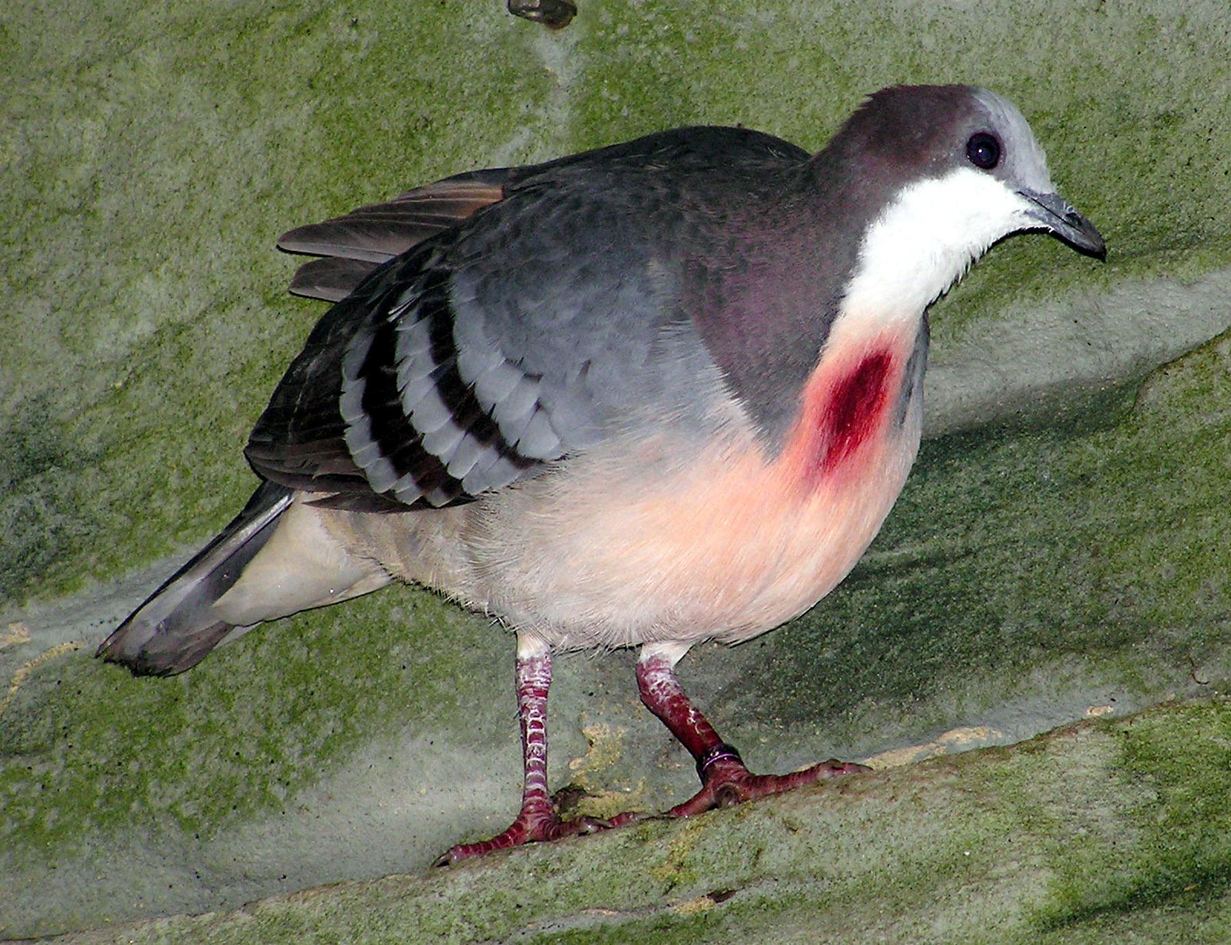bleeding: (733, 327, 929, 508)
